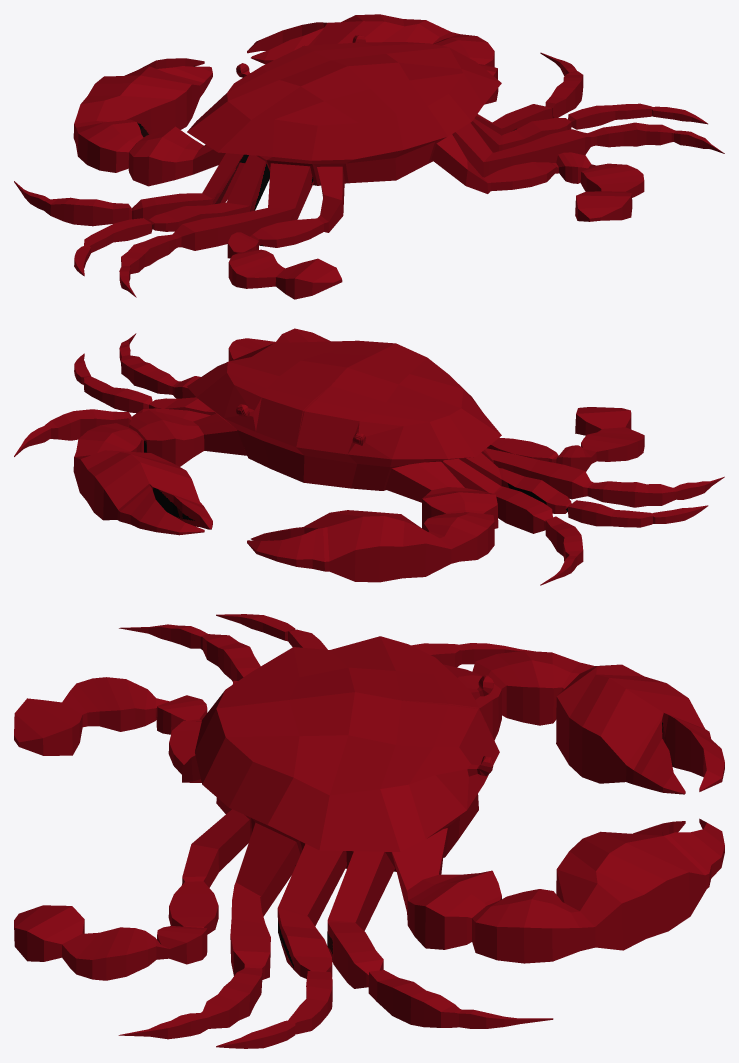
Rendered from crab2.gltf.
3 views of the same model, one above another, from view 1: azimuth 30°, elevation 25°; view 2: azimuth 150°, elevation 25°; view 3: azimuth 270°, elevation 25° (orthographic). The views are drawn at different scales.
Visible parts, largest first — view 1: Cube; view 2: Cube; view 3: Cube.
Part boxes in pixels (x1,y1,x2,y2): Cube: (14, 14, 724, 299); Cube: (14, 328, 724, 585); Cube: (14, 614, 724, 1048).
Size of the model in its own units: 3.14 by 0.5461 by 2.19.
1 material, 1 textured.
